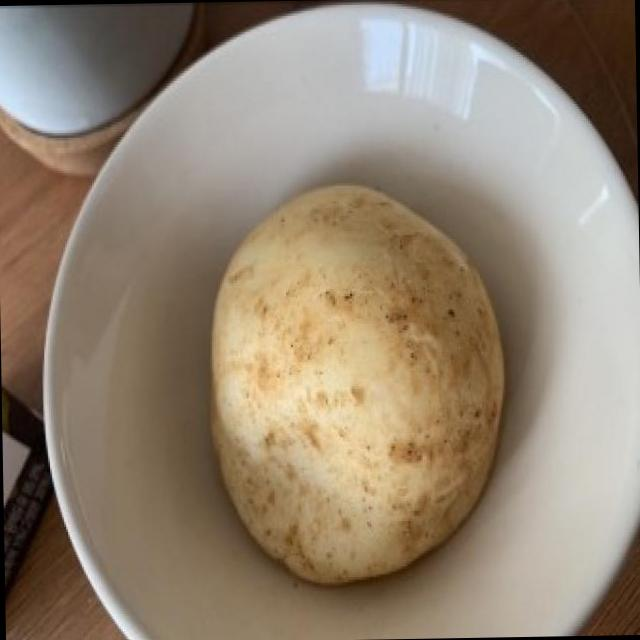Potato: (200, 171, 520, 596)
